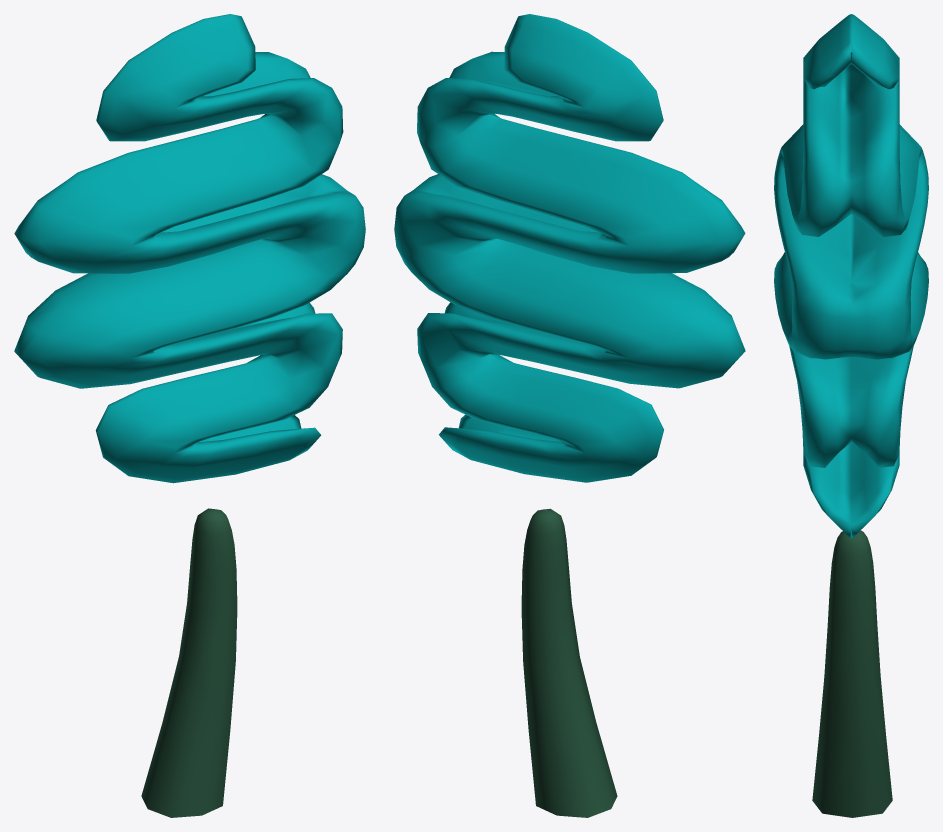
File: Tree_Floating_1.glb
3 renders of one model, left to right at view 1: azimuth 30°, elevation 25°; view 2: azimuth 150°, elevation 25°; view 3: azimuth 270°, elevation 25°, orthographic.
Visible parts, largest first — view 1: Tree_Floating_1; view 2: Tree_Floating_1; view 3: Tree_Floating_1.
Part boxes in pixels (x1,y1,x2,y2): Tree_Floating_1: (14, 14, 365, 817); Tree_Floating_1: (394, 14, 745, 817); Tree_Floating_1: (774, 14, 928, 817).
Bounding box in the file's own units: 2.09 × 4.61 × 0.8258.
Materials: 1 (1 with a texture image).
